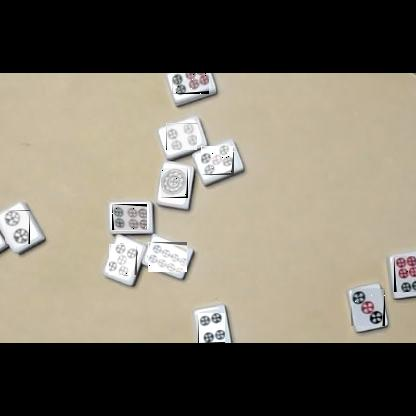1p: (161, 168, 188, 198)
2p: (5, 210, 30, 244)
3p: (351, 288, 385, 326)
4p: (166, 123, 197, 150), (198, 313, 225, 343)
5p: (201, 146, 234, 175), (109, 244, 137, 275)
6p: (112, 204, 147, 230), (394, 256, 416, 292), (172, 73, 209, 94)
8p: (148, 242, 187, 272)
